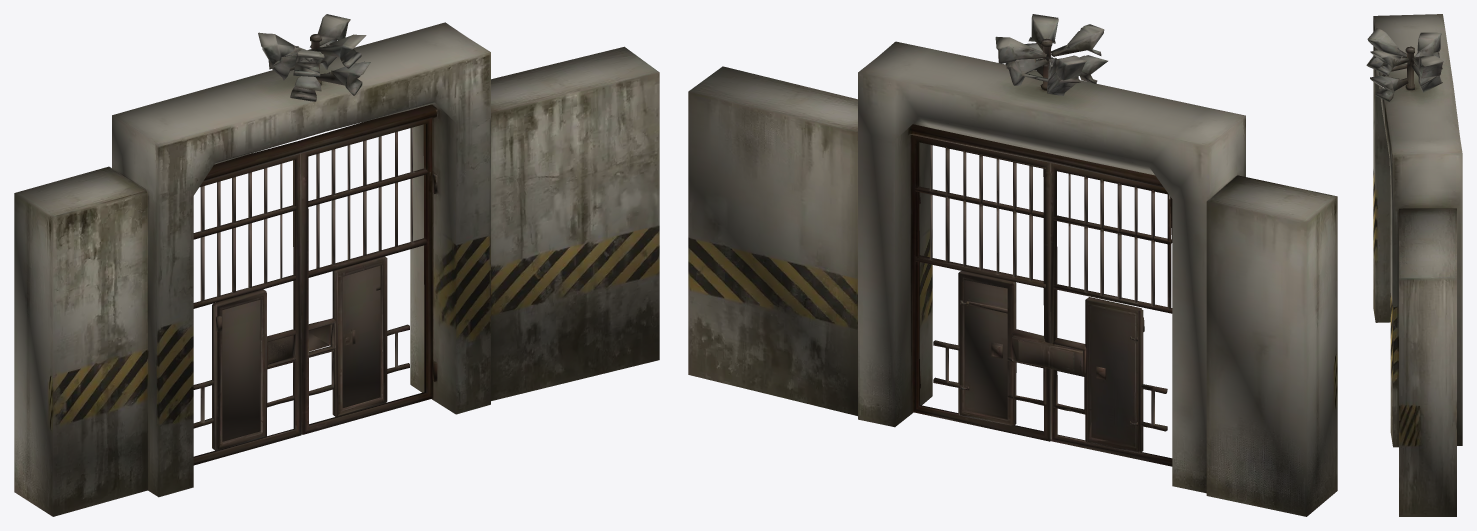
File: portao_penitenciaria.glb
3 renders of one model, left to right at view 1: azimuth 30°, elevation 25°; view 2: azimuth 150°, elevation 25°; view 3: azimuth 270°, elevation 25°, orthographic. The views are drawn at different scales.
Parts seen in each view (by area): view 1: Portão de penitenciária; view 2: Portão de penitenciária; view 3: Portão de penitenciária.
Part boxes in pixels (x1,y1,x2,y2): Portão de penitenciária: (14, 14, 659, 516); Portão de penitenciária: (688, 14, 1337, 516); Portão de penitenciária: (1366, 14, 1462, 516).
Size of the model in its own units: 0.998 by 0.627 by 0.1621.
1 material, 1 textured.
